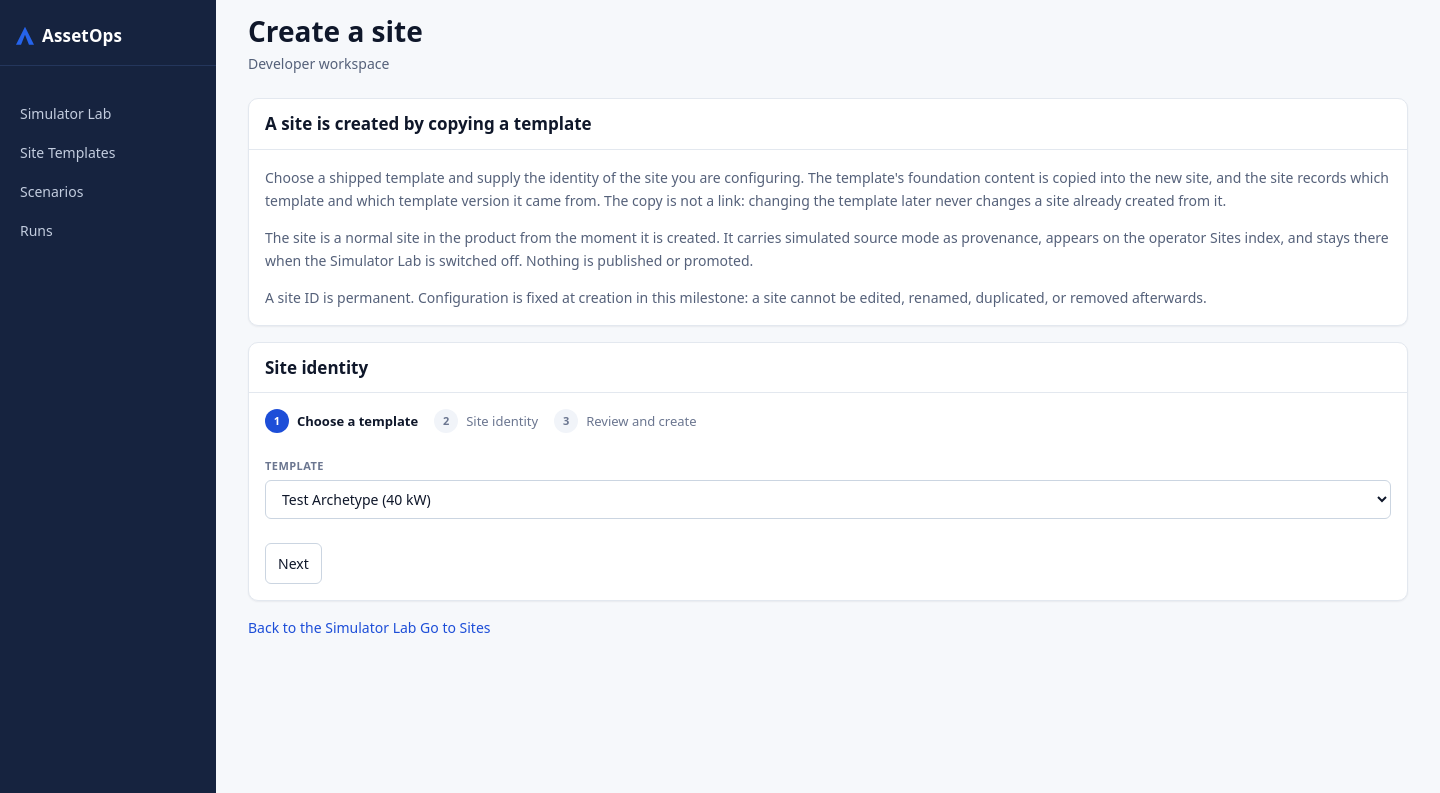
it: creating a site › confirms the created site by its site ID
Expected: the dropdown labelled "Template" is shown, [265,480,1391,519]
Click the button "Next".
click(293, 563)  # box [265,543,322,584]
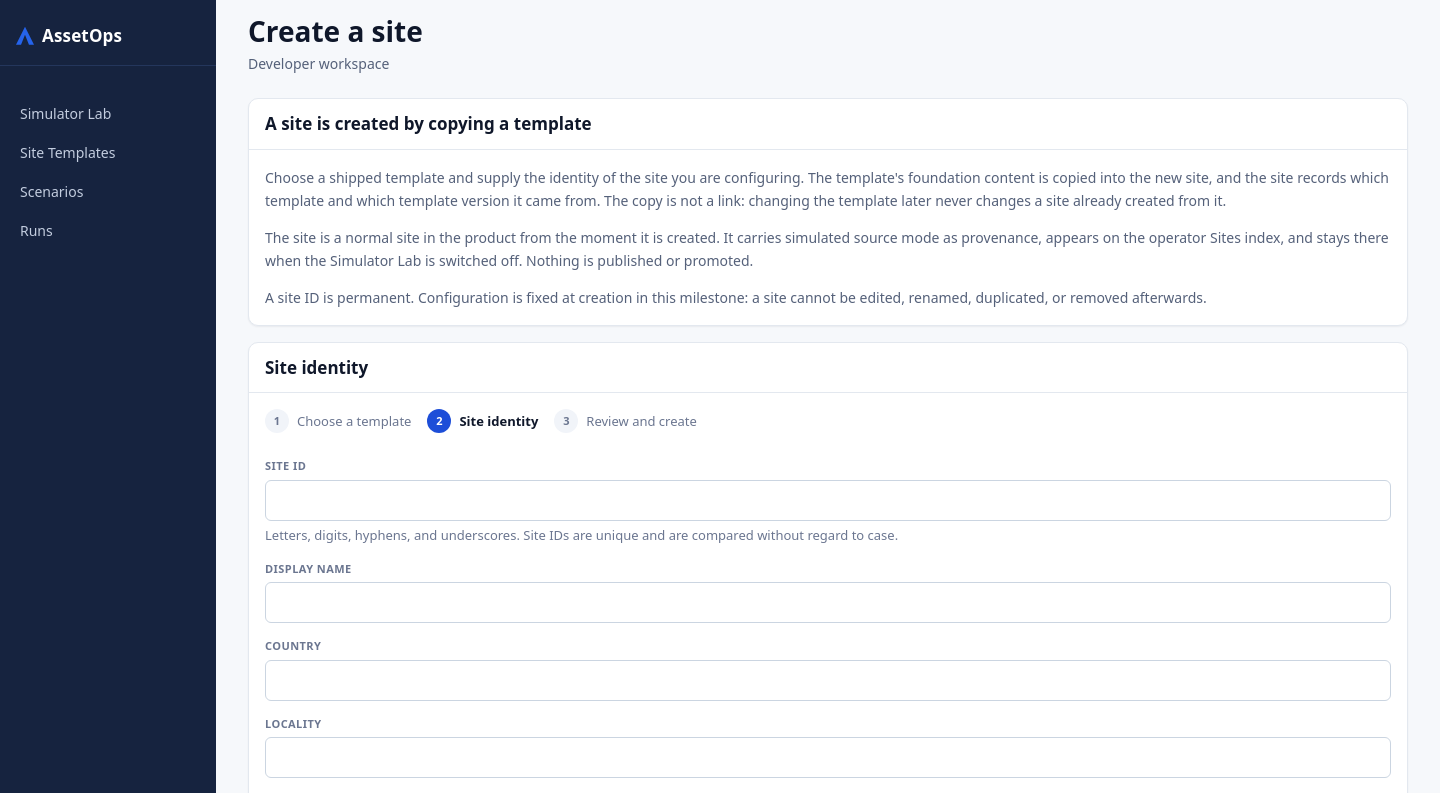
Type "MG-002" into the field labelled "Site ID".
click(828, 500); type("MG-002")  # box [265,480,1391,521]
Type "Kalangala Mini-Grid" into the field labelled "Display name".
click(828, 603); type("Kalangala Mini-Grid")  # box [265,582,1391,623]
Type "Uganda" into the field labelled "Country".
click(828, 680); type("Uganda")  # box [265,660,1391,701]
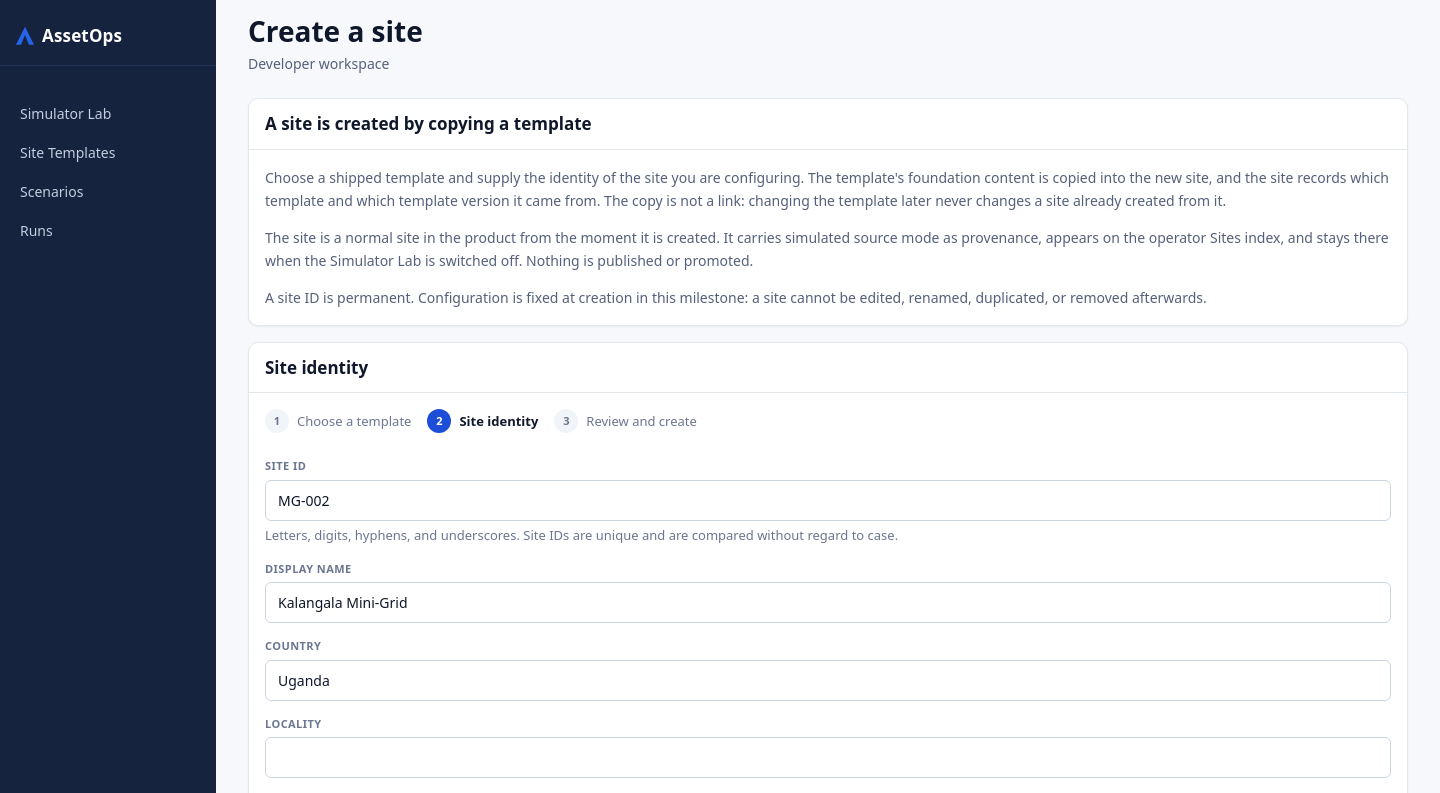
Type "Kalangala" into the field labelled "Locality".
click(828, 757); type("Kalangala")  # box [265,737,1391,778]
(page scrolled)
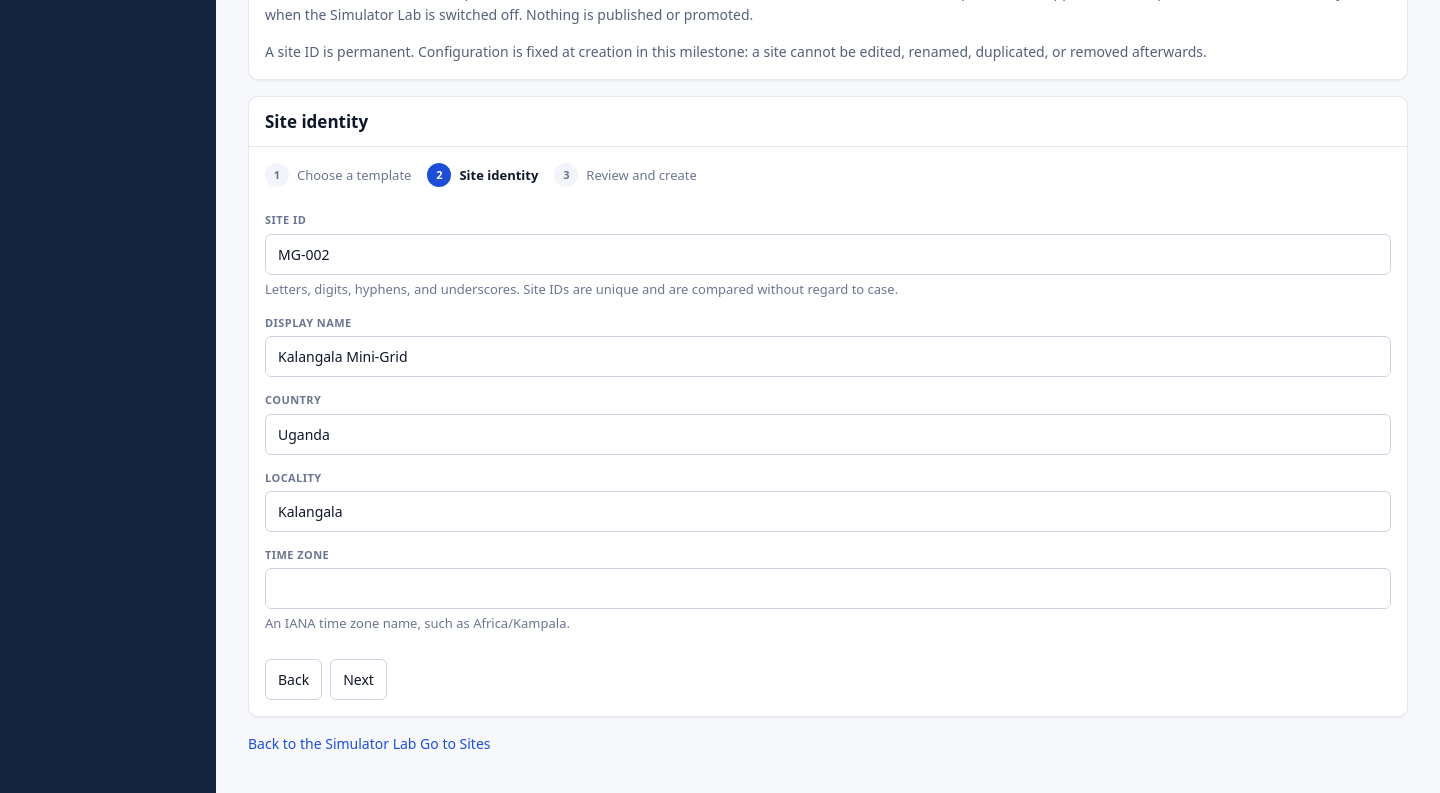
Type "Africa/Kampala" into the field labelled "Time zone".
click(828, 589); type("Africa/Kampala")  # box [265,568,1391,609]
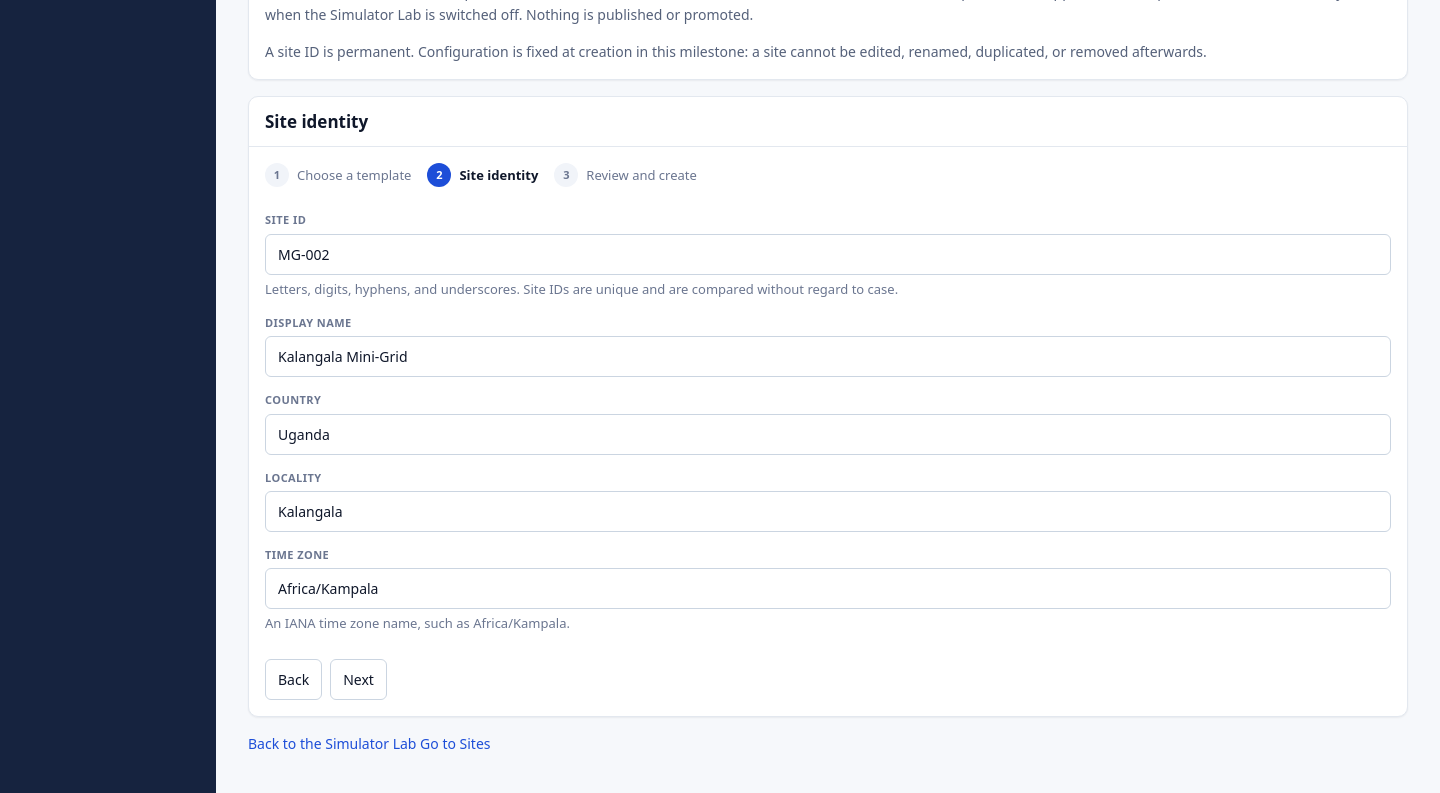
Click the button "Next".
click(359, 679)  # box [330,658,387,700]
(page scrolled)
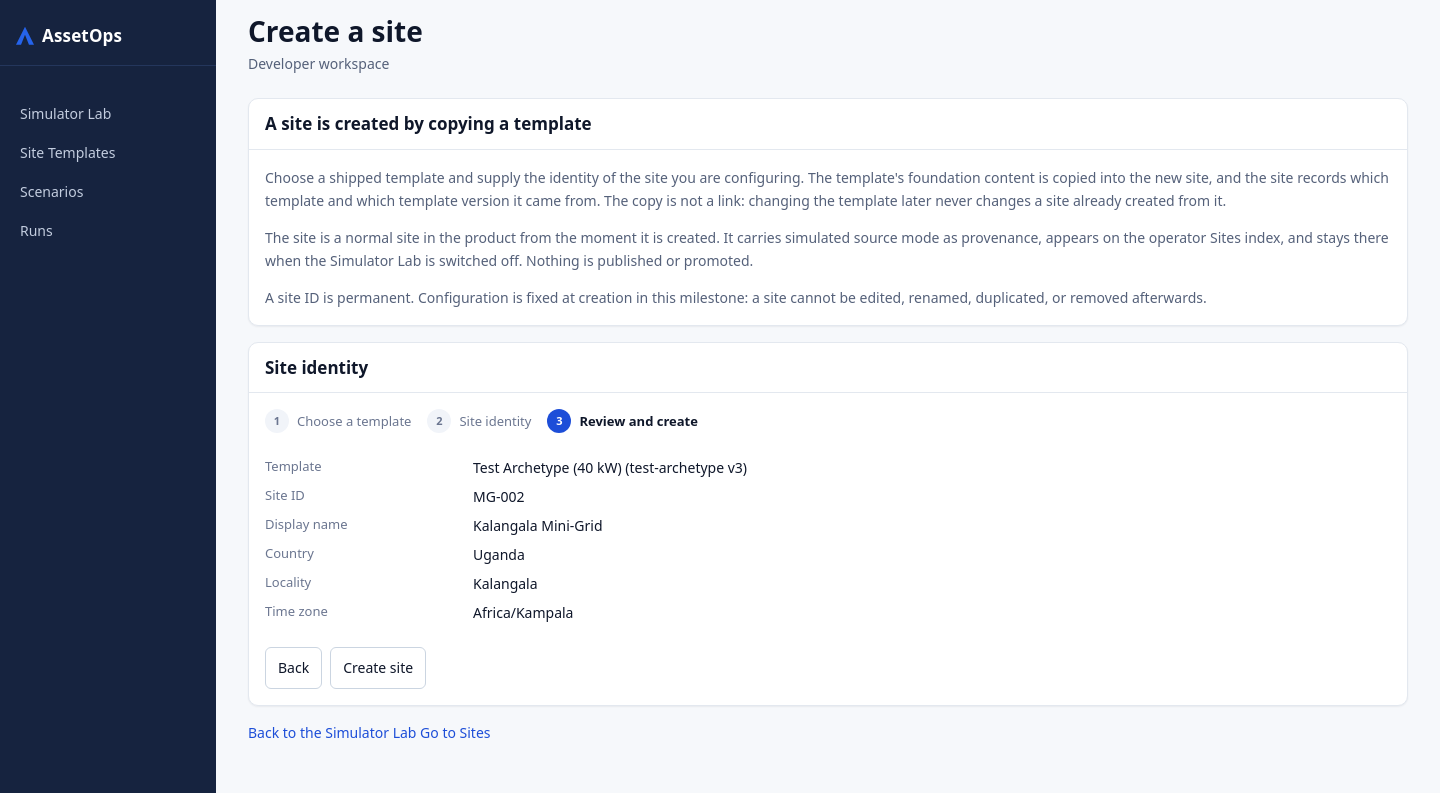
Click the button "Create site".
click(378, 668)  # box [330,648,426,689]
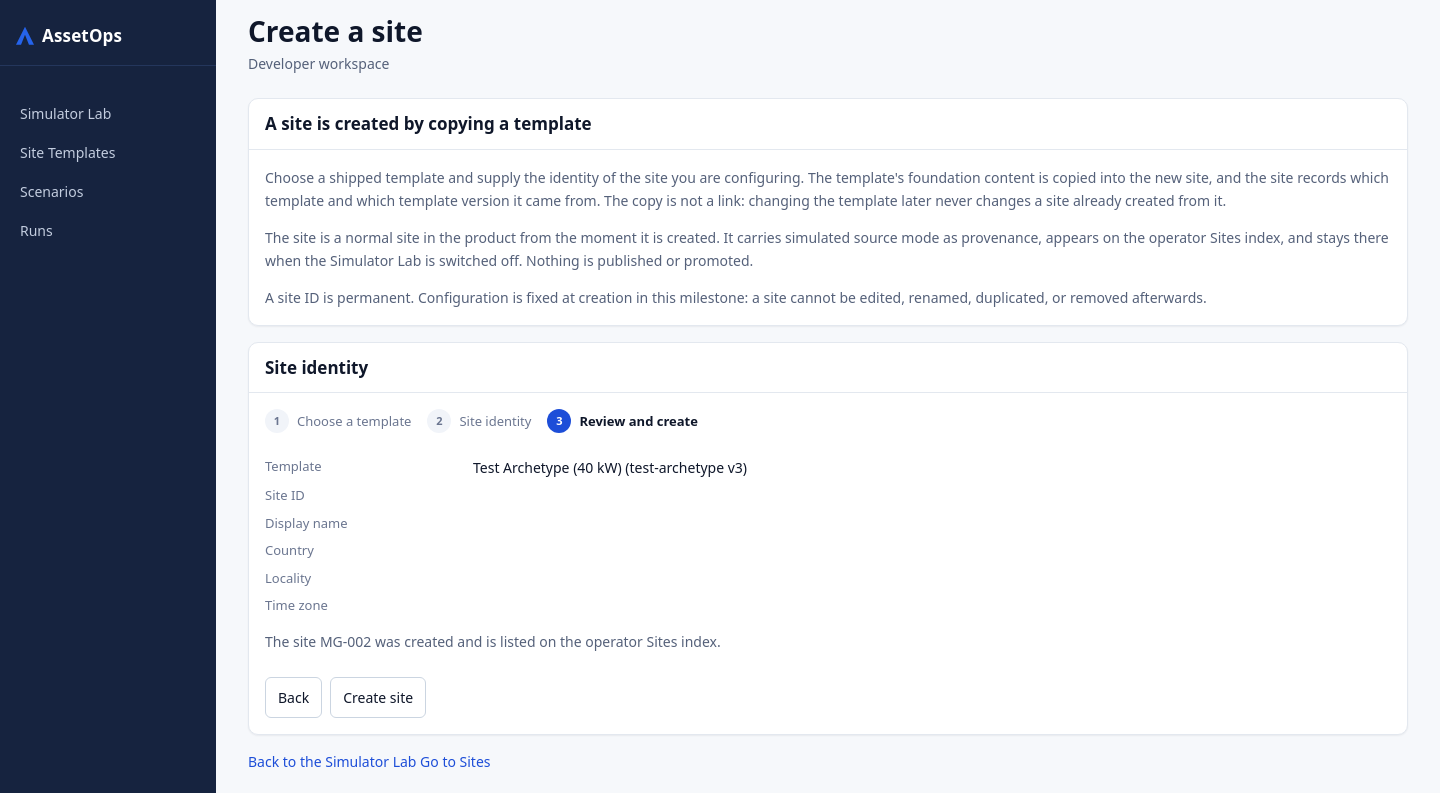
Expected: the message shows "The site MG-002 was created", [265,632,721,651]
